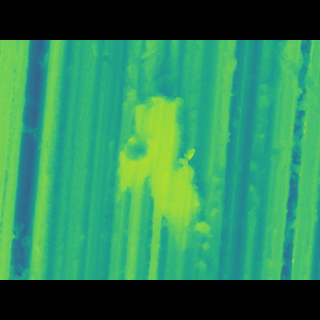Loch: (109, 103, 231, 240)
